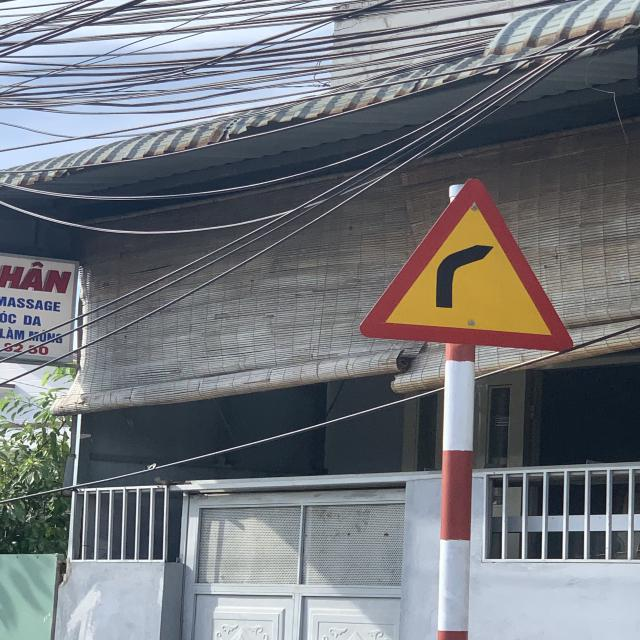Duong_Nguoi_Di_Bo_Cat_Ngang: (358, 177, 574, 353)
